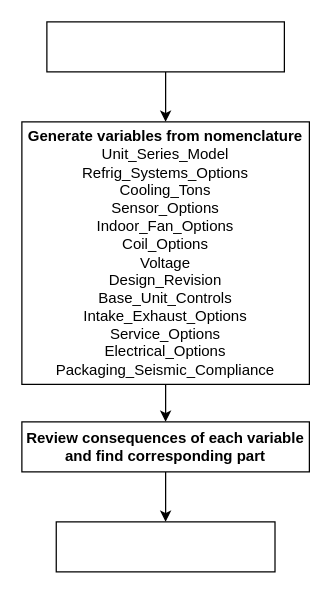
The diagram is 331 pixels wide and 594 high, and some of its shapes have lost their labels. Each missing label, with the centre of its shape:
Read model number Example: 0GCQM04A2A5-0A0A0: [165,46]
Review maps and export desired location of each part: [165,546]
